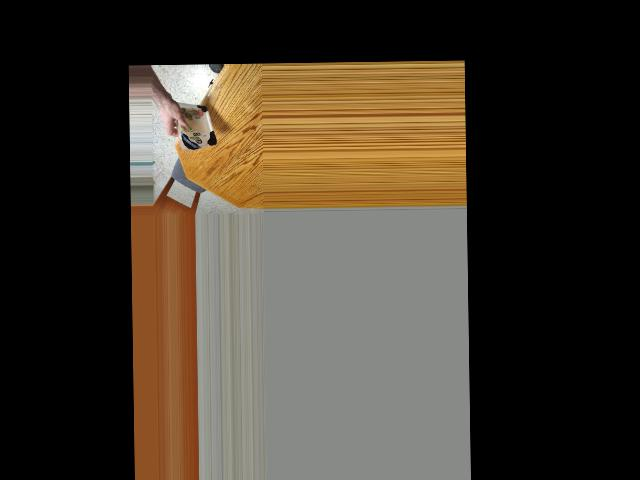cheese: (176, 96, 213, 153)
